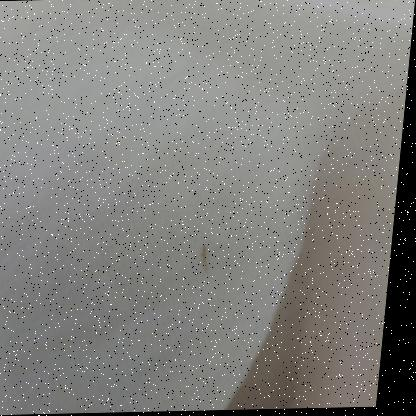spot: (196, 243, 221, 274)
